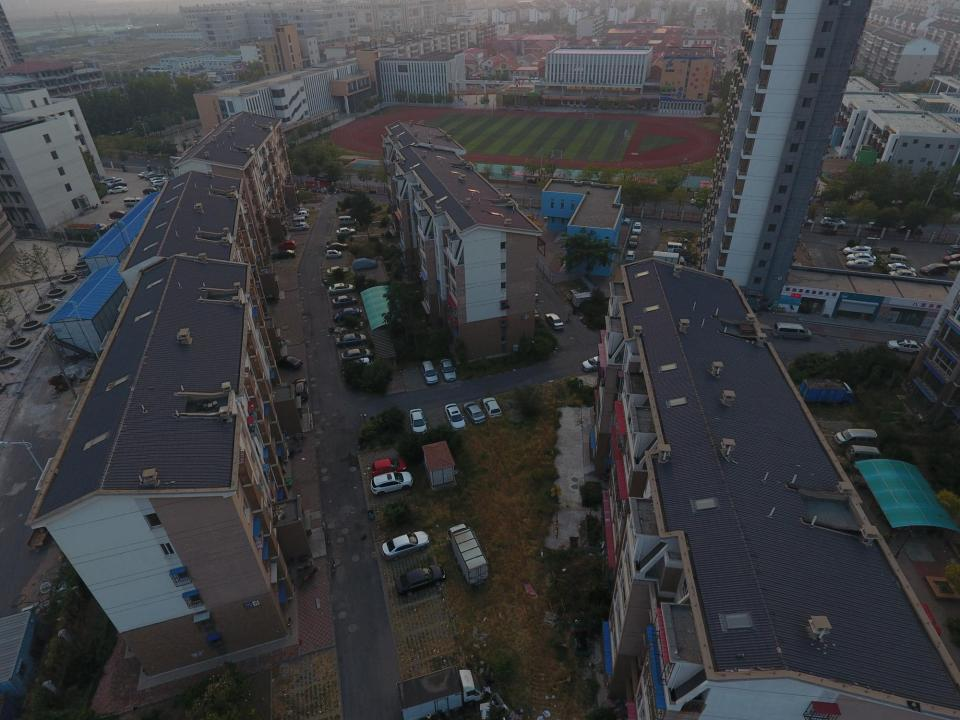car: (394, 565, 446, 593), (382, 530, 429, 560), (370, 471, 412, 494), (369, 458, 407, 475), (444, 403, 466, 431), (887, 339, 928, 354), (463, 401, 486, 426), (342, 355, 376, 371), (581, 355, 610, 372), (409, 408, 427, 435), (482, 397, 502, 418), (292, 378, 309, 402), (336, 333, 366, 346), (422, 360, 438, 384), (276, 355, 303, 369), (440, 359, 456, 382), (334, 308, 364, 320), (888, 262, 918, 274), (352, 257, 379, 270), (342, 347, 370, 359), (846, 252, 876, 263), (545, 313, 564, 330), (844, 244, 873, 255), (332, 296, 358, 308), (899, 223, 924, 235), (329, 283, 356, 294), (846, 258, 875, 268), (889, 269, 918, 279), (611, 211, 631, 225), (272, 249, 295, 260), (524, 283, 538, 301), (324, 247, 344, 259), (822, 217, 846, 227), (326, 241, 352, 250), (327, 265, 349, 275), (826, 206, 846, 217), (867, 221, 889, 231), (108, 210, 130, 219), (336, 227, 356, 236), (106, 186, 128, 194), (278, 240, 297, 249), (107, 182, 128, 190), (289, 222, 309, 230), (628, 234, 639, 248), (690, 197, 708, 205), (632, 221, 642, 235), (943, 254, 960, 262), (149, 180, 168, 187), (625, 250, 635, 262), (100, 177, 117, 184), (145, 173, 164, 179), (948, 260, 960, 269), (137, 171, 155, 177), (292, 211, 309, 217), (143, 188, 159, 194)
truck: (396, 665, 484, 718), (449, 524, 489, 585), (800, 377, 858, 404), (653, 250, 686, 268), (573, 292, 605, 306), (568, 288, 594, 300)
van: (835, 429, 878, 447), (847, 444, 884, 464), (773, 322, 812, 340), (922, 263, 950, 276), (887, 253, 910, 265), (666, 241, 687, 253), (124, 197, 146, 206), (338, 216, 357, 224), (148, 177, 168, 184), (107, 178, 125, 185), (291, 217, 307, 224)
